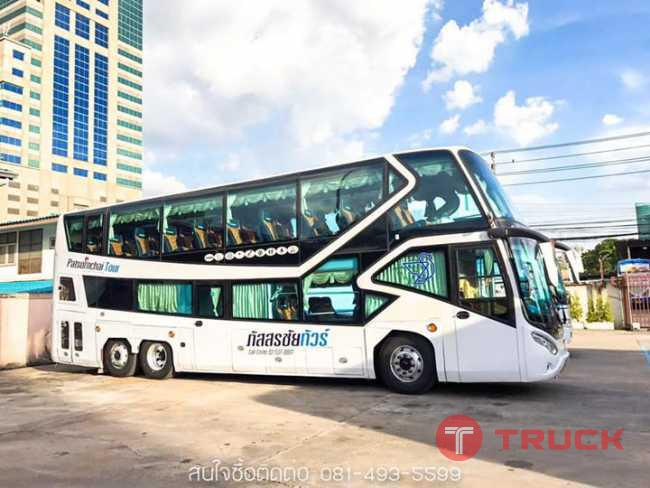bus: (51, 144, 572, 393)
